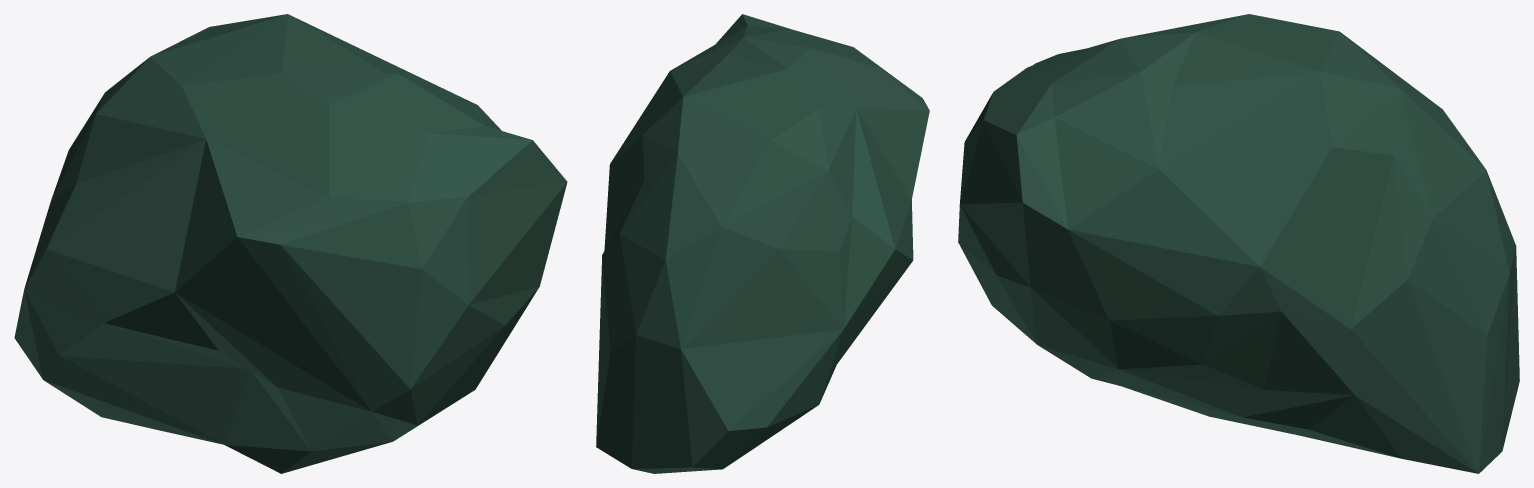
The model's file is SM_large_rock_01.fbx.
3 views of the same model, side by side, from view 1: azimuth 30°, elevation 25°; view 2: azimuth 150°, elevation 25°; view 3: azimuth 270°, elevation 25° (orthographic). The views are drawn at different scales.
Visible parts, largest first — view 1: large_rock_01; view 2: large_rock_01; view 3: large_rock_01.
Part boxes in pixels (x1,y1,x2,y2): large_rock_01: (14,14,567,473); large_rock_01: (596,14,929,473); large_rock_01: (958,14,1519,473).
Size of the model in its own units: 63.79 by 68 by 83.89.
